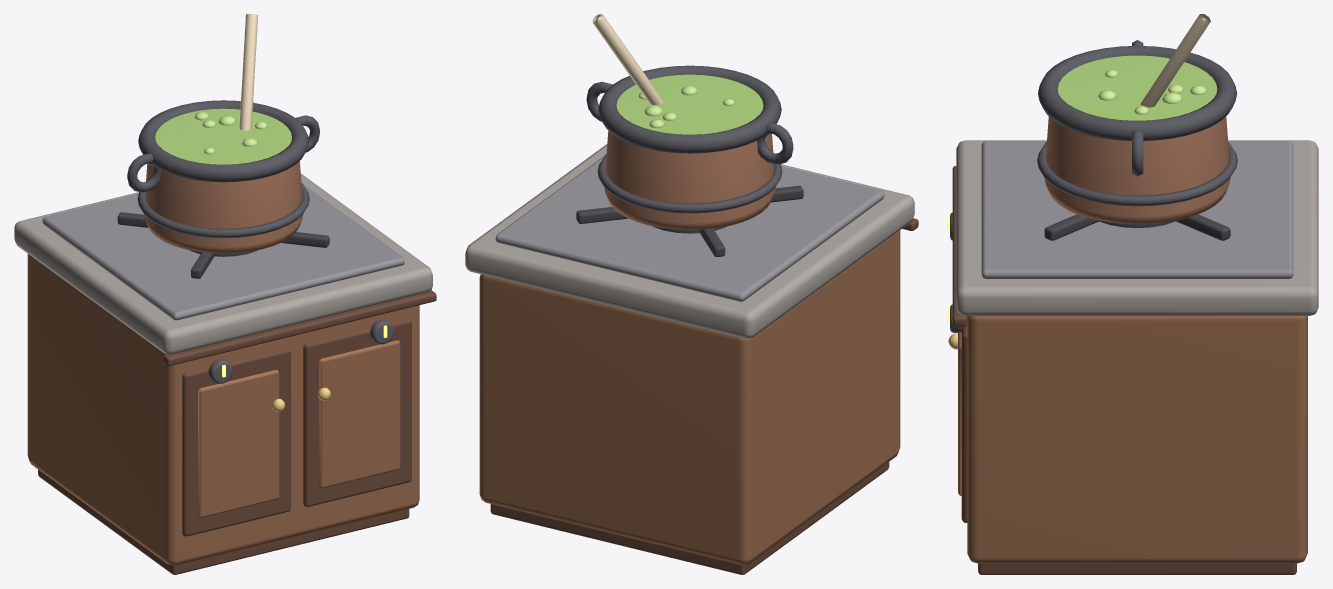
The model's file is pot.glb.
3 views of the same model, side by side, from view 1: azimuth 30°, elevation 25°; view 2: azimuth 150°, elevation 25°; view 3: azimuth 270°, elevation 25° (orthographic). The views are drawn at different scales.
Visible parts, largest first — view 1: base, broth; view 2: base, broth; view 3: base, broth.
Part boxes in pixels (x1,y1,x2,y2): base: (14,14,436,574); broth: (155,108,291,164); base: (465,14,918,574); broth: (616,74,763,134); base: (947,14,1318,574); broth: (1057,55,1217,120).
Size of the model in its own units: 1 by 1.6 by 1.02.
